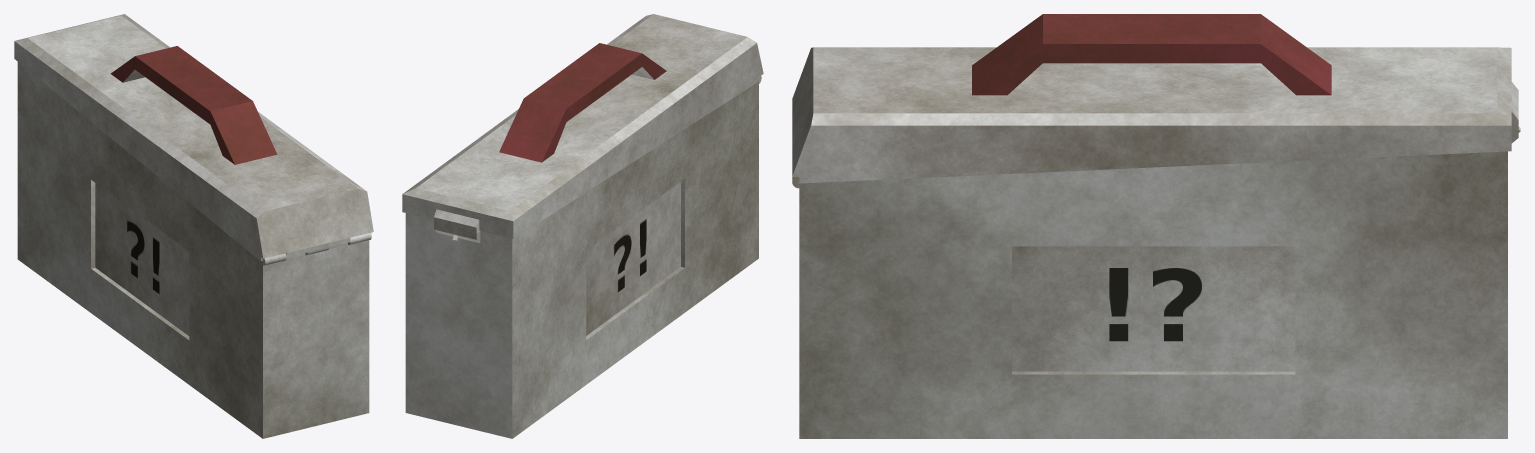
File: specialbox.dae
The picture shows the model from 3 angles, left to right: view 1: azimuth 30°, elevation 25°; view 2: azimuth 150°, elevation 25°; view 3: azimuth 270°, elevation 25°; orthographic projection. The views are drawn at different scales.
Parts seen in each view (by area): view 1: SketchUp.005; view 2: SketchUp.005; view 3: SketchUp.005.
Part boxes in pixels (x1=…): SketchUp.005: x1=14, y1=14, x2=373, y2=438; SketchUp.005: x1=402, y1=14, x2=763, y2=438; SketchUp.005: x1=792, y1=14, x2=1520, y2=438.
Size of the model in its own units: 0.13 by 0.514 by 0.29.
Materials: 1 (1 with a texture image).
